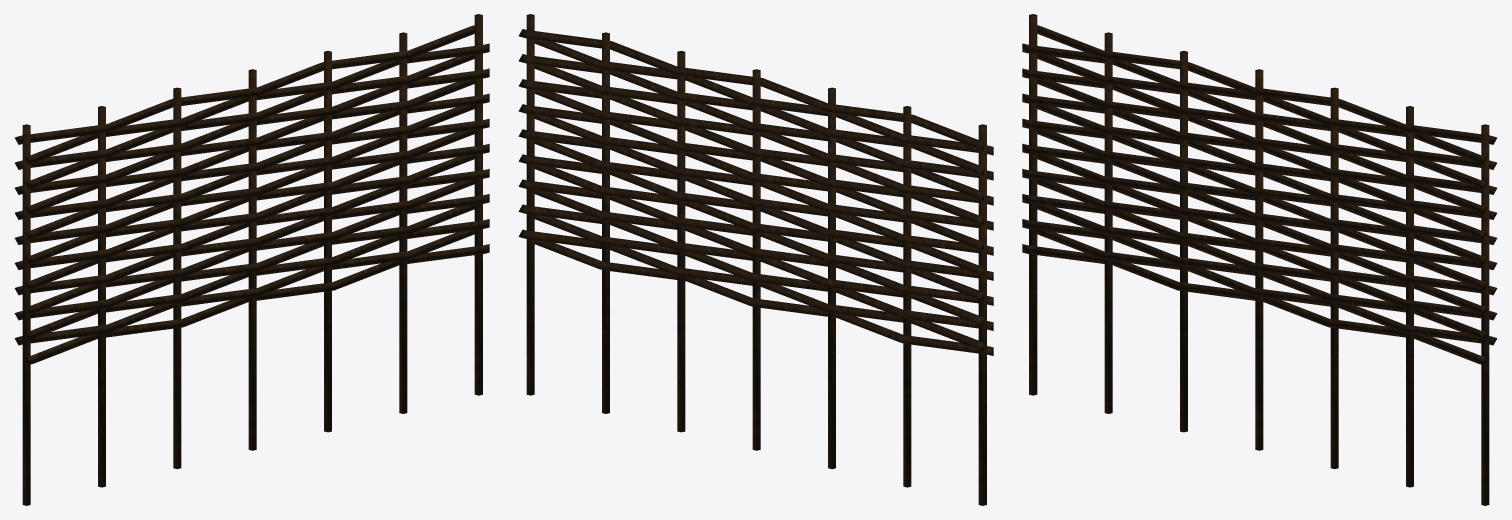
File: tpl_s1_fence_panels.glb
The picture shows the model from 3 angles, left to right: view 1: azimuth 30°, elevation 25°; view 2: azimuth 150°, elevation 25°; view 3: azimuth 330°, elevation 25°; orthographic projection.
Parts seen in each view (by area): view 1: tpl_s1_fence_panels; view 2: tpl_s1_fence_panels; view 3: tpl_s1_fence_panels.
Boxes of the visible parts, <box> form: tpl_s1_fence_panels: <box>14,14,489,505</box>; tpl_s1_fence_panels: <box>518,14,993,505</box>; tpl_s1_fence_panels: <box>1022,14,1497,505</box>.
Size of the model in its own units: 2.03 by 1.59 by 0.1053.
Materials: 1 (1 with a texture image).
